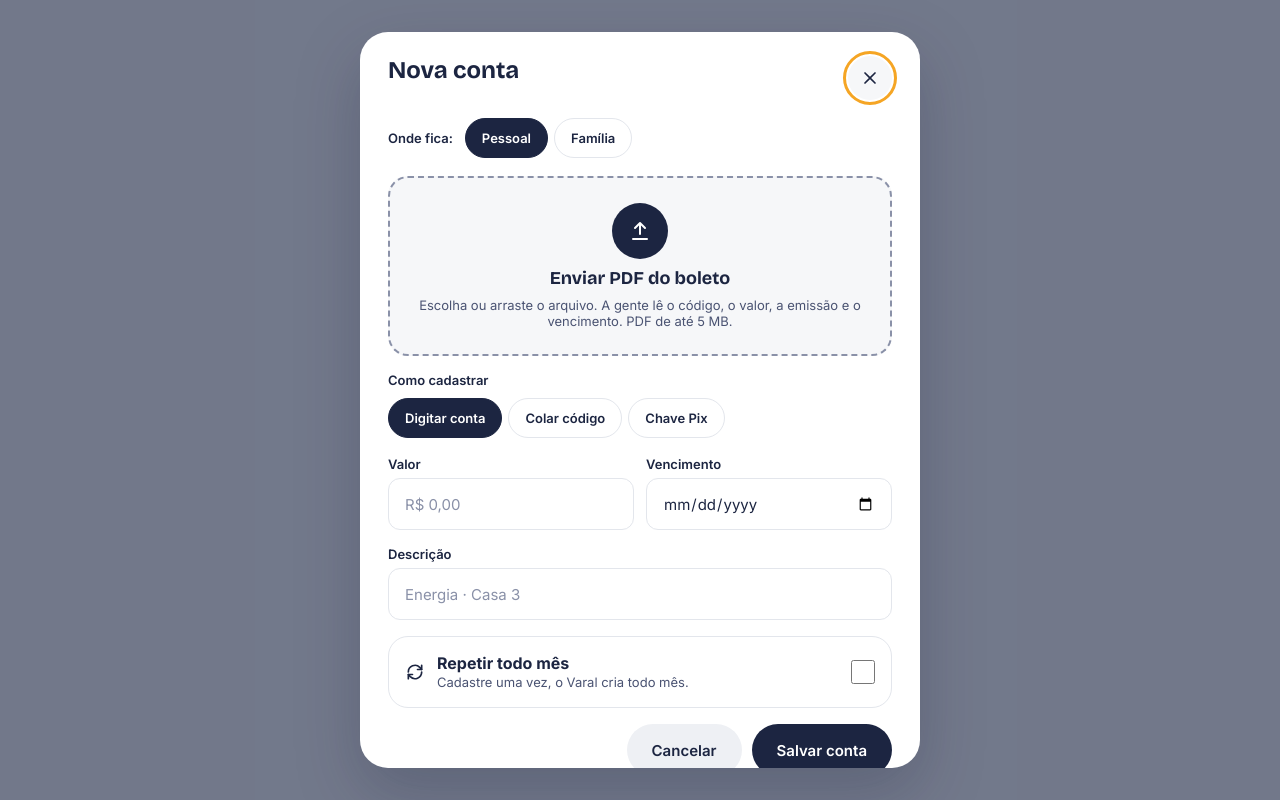
Test: rn08: invalid preview preserves the original code and the account fields
This screenshot has width=1280, height=800.
Type "Conta para corrigir" into the field labelled "Descrição".
click(640, 594); type("Conta para corrigir")  # box [405,569,875,619]
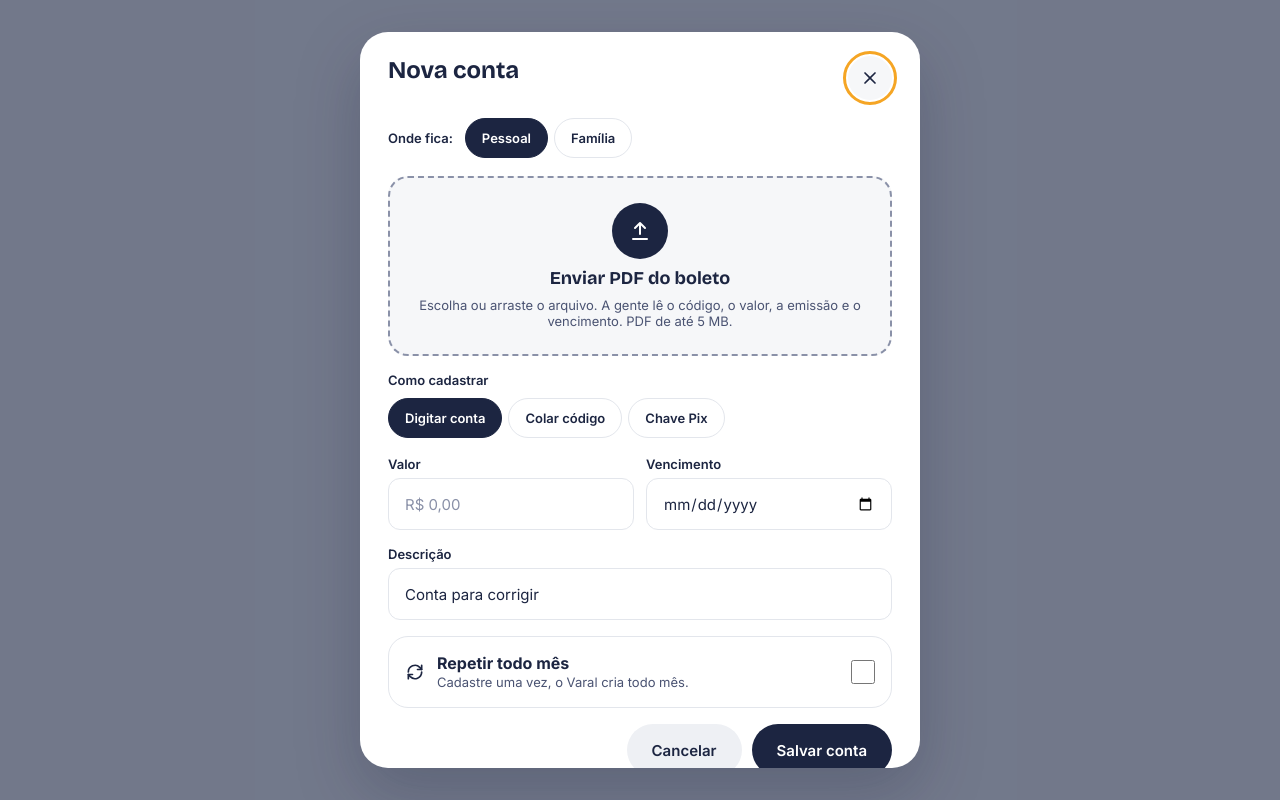
Click the button "Colar código".
click(565, 418)  # box [508,396,622,440]
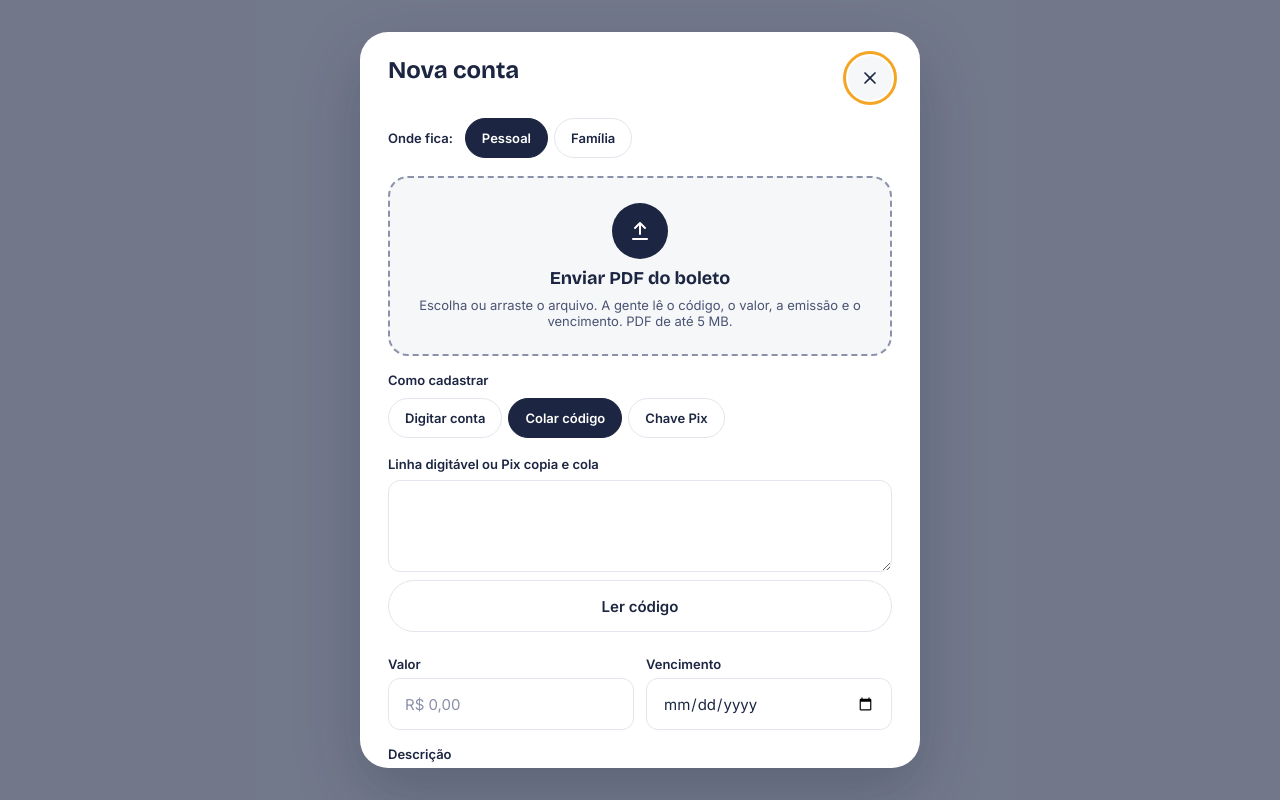
Type "123.4 inválido" into the text box labelled "Linha digitável ou Pix copia e cola".
click(640, 526); type("123.4 inválido")  # box [388,480,892,572]
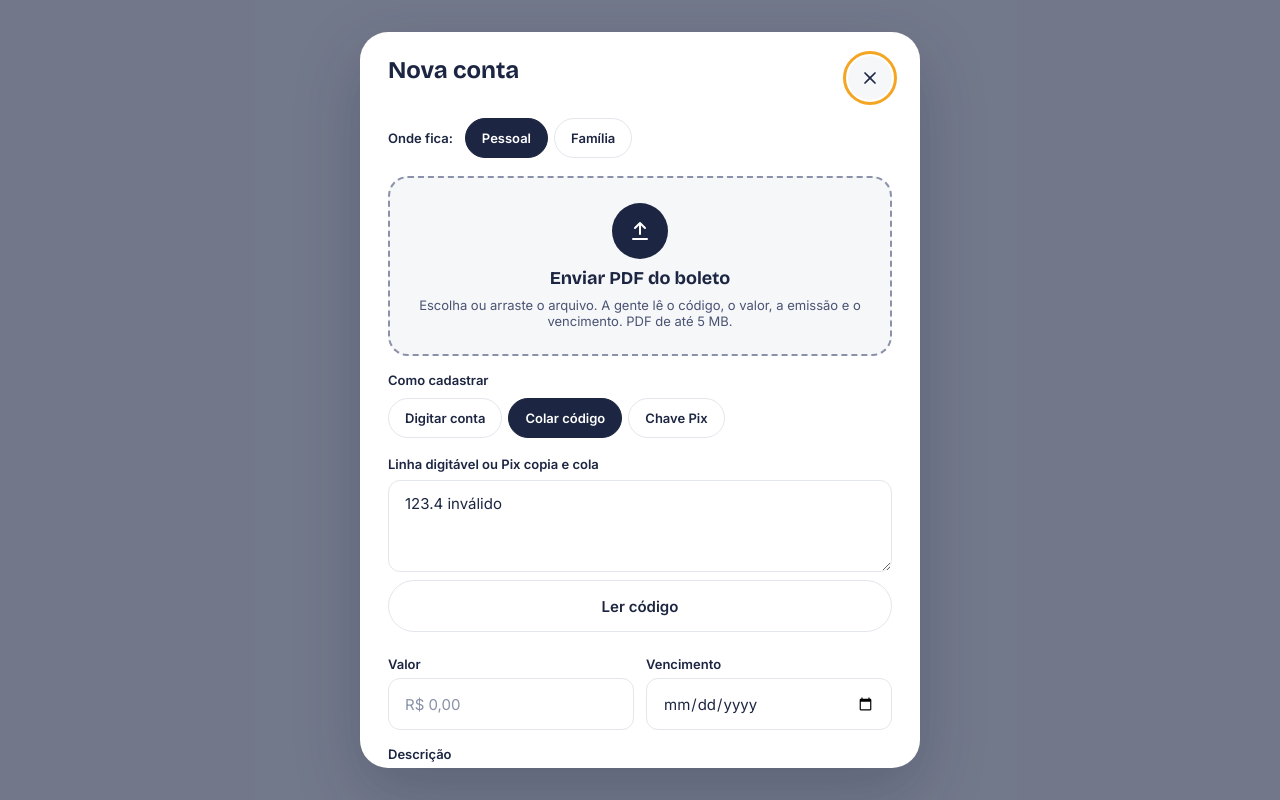
Click the button "Ler código".
click(640, 606)  # box [388,580,892,632]
(page scrolled)
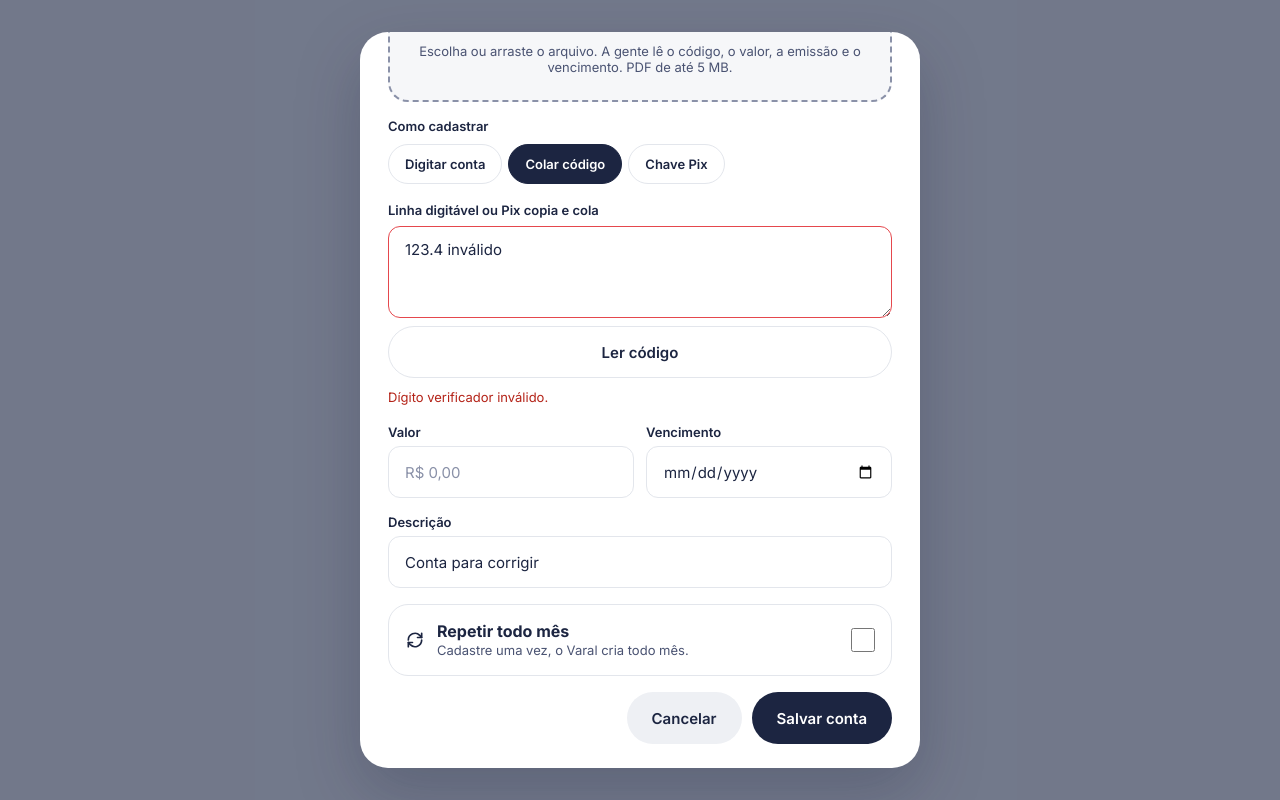
Result: the text "Dígito verificador inválido." is shown at [388,389,548,405]
